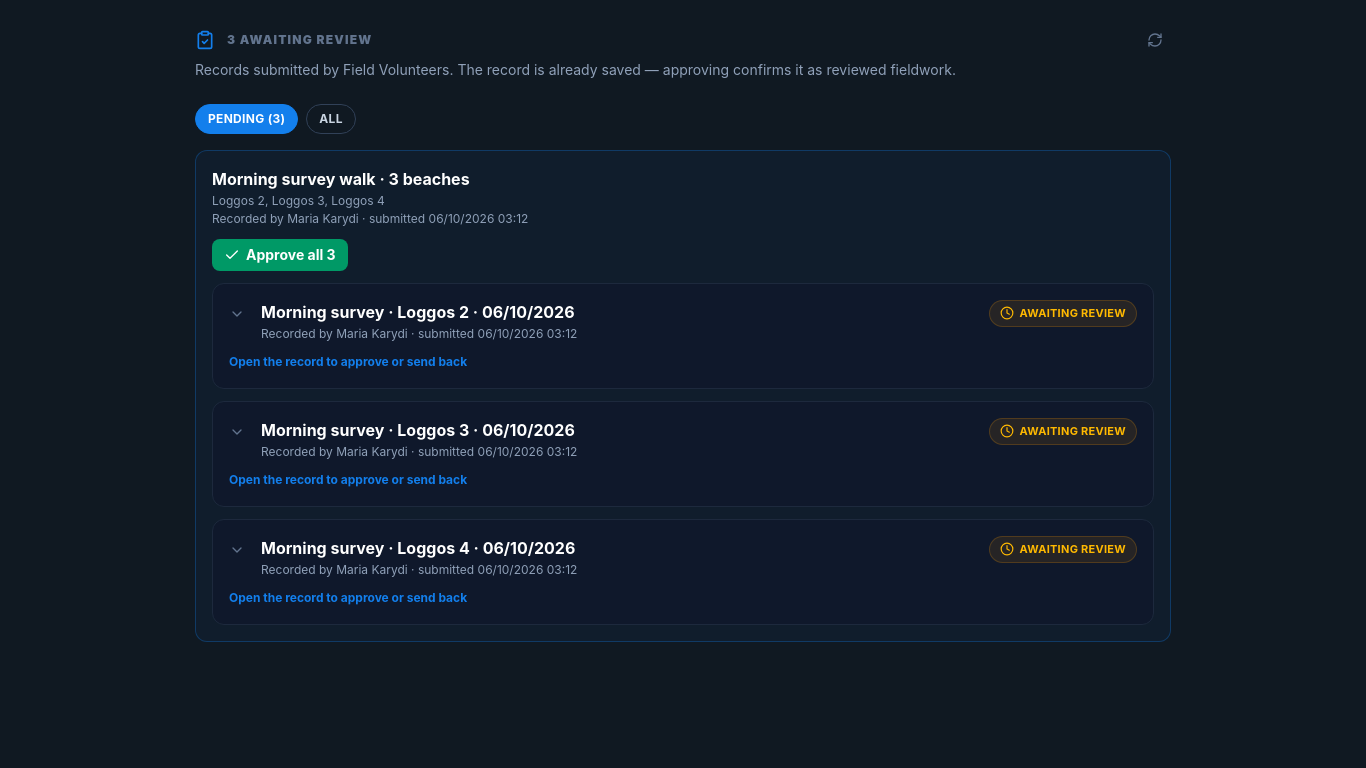
Test: ReviewQueue — walk grouping (QA-034) › a beach sent back individually drops out of the group, leaving the rest to bulk-approve
The image size is (1366, 768).
Expected: the text "Morning survey walk · 3 beaches" is shown, [212,169,470,189]
Expand the first beach and send it back with a note.
Click the text "Morning survey · Loggos 2 · 06/10/2026": (418,312) [261,302,575,322]
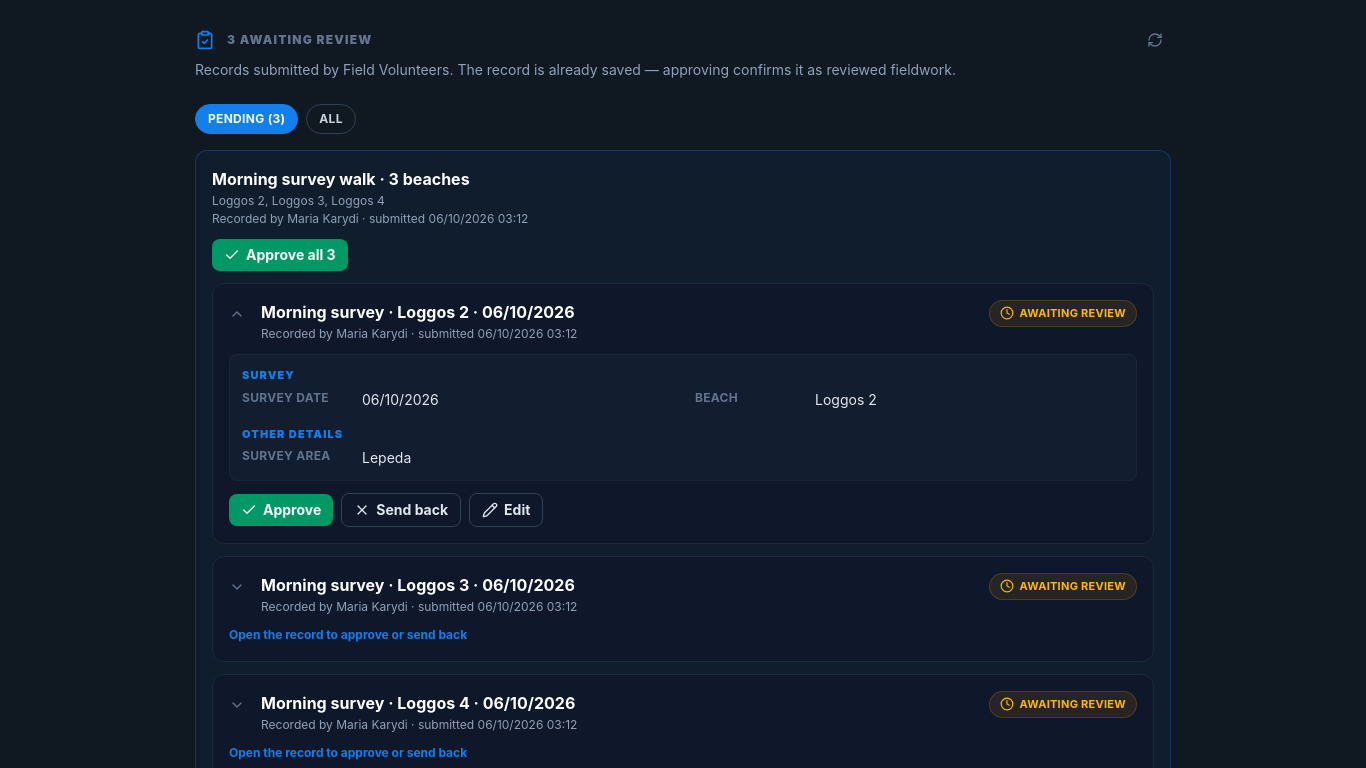
Click the button "Send back": (401,510) [341,493,461,527]
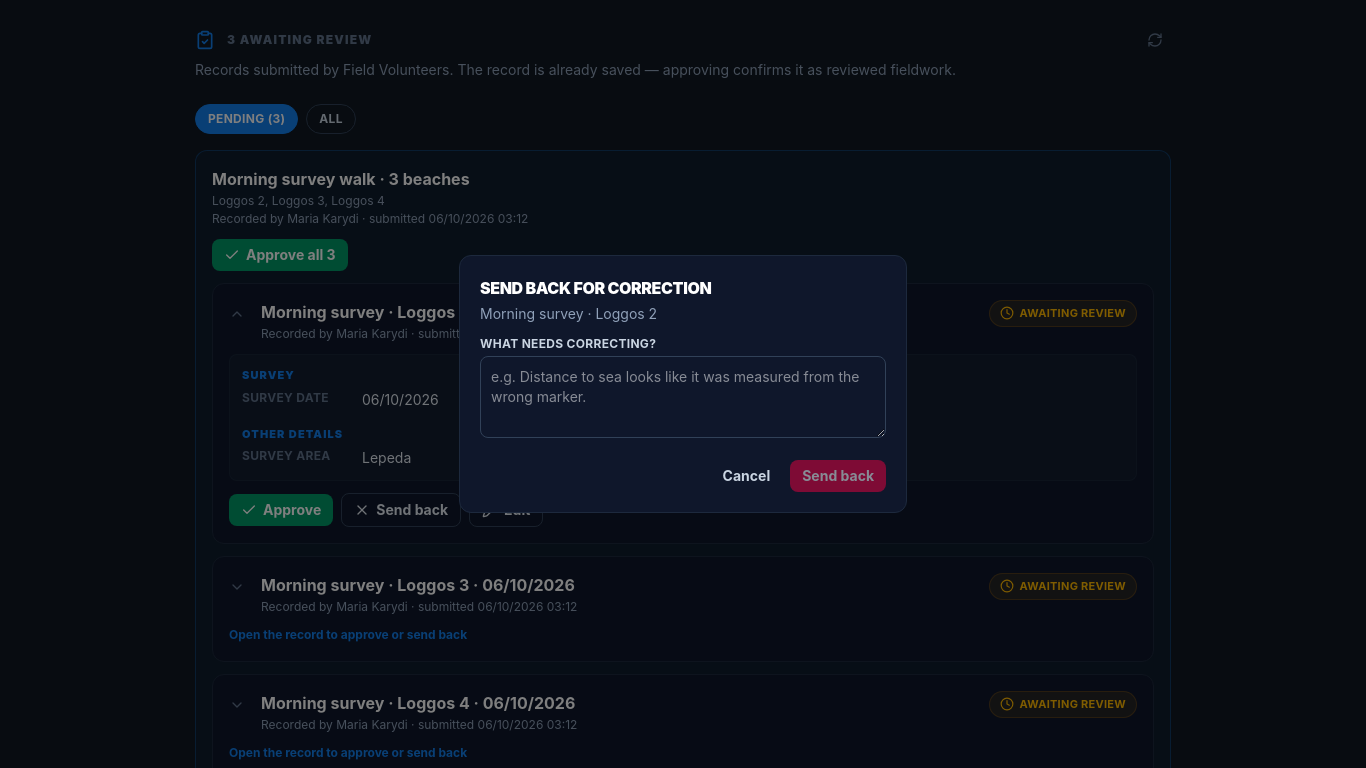
Replace the text in the text box labelled "What needs correcting?" with "Times look too short.": (683,397) [480,356,886,438]
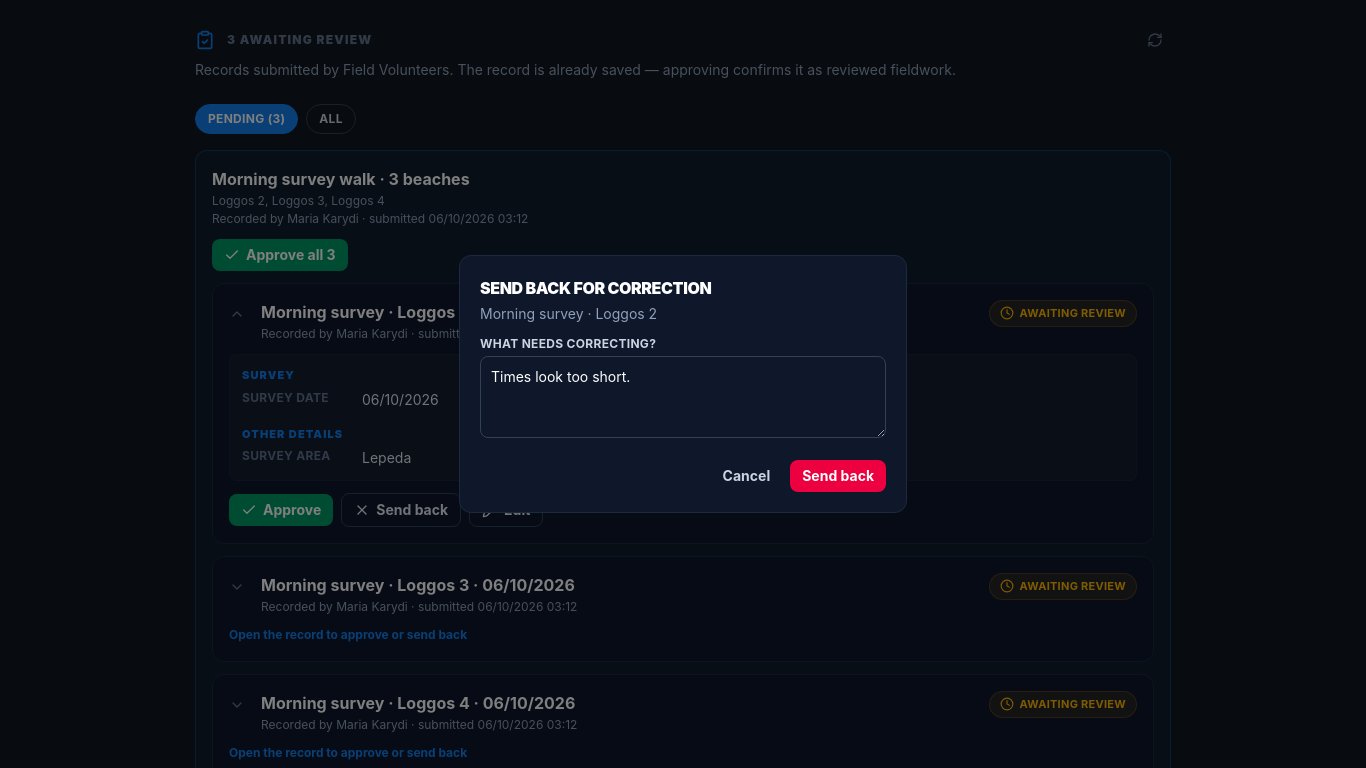
Click the button "Send back": (838,476) [790,460,886,492]
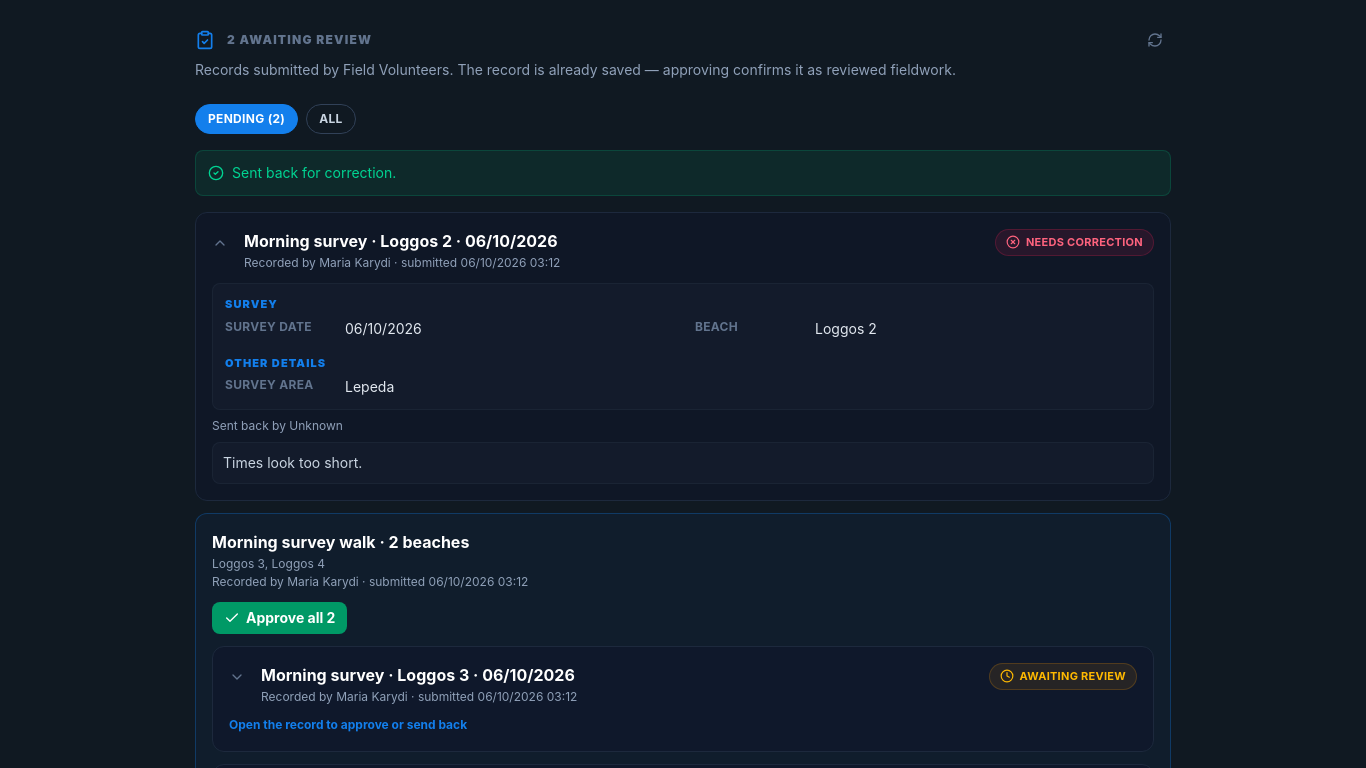
Expected: the text "Morning survey walk · 2 beaches" is shown, [212,532,469,552]
